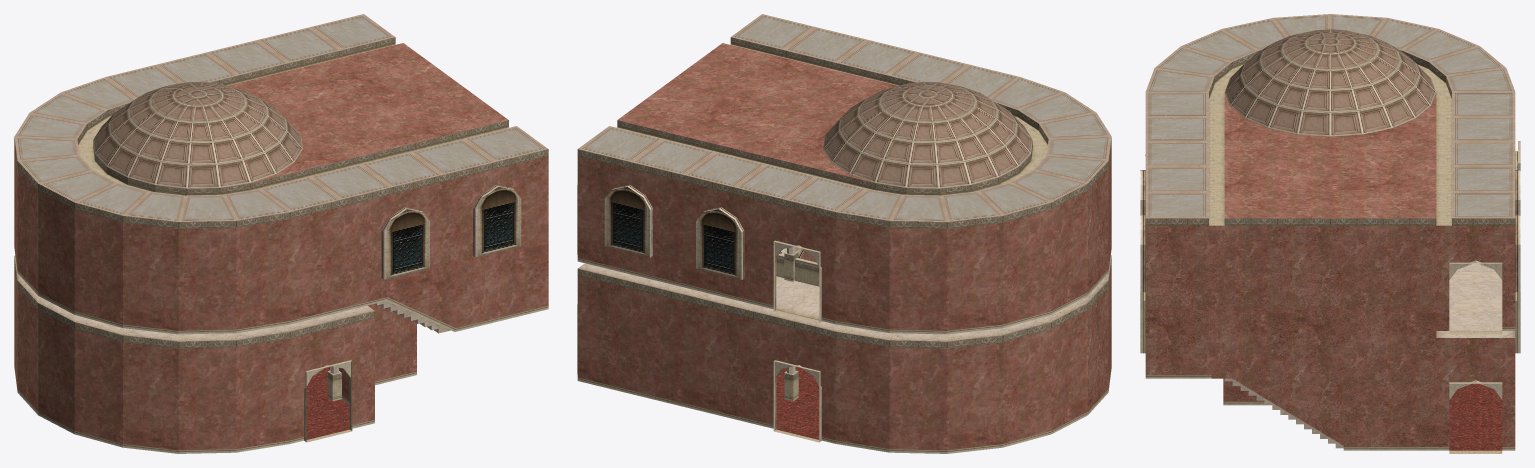
File: ply_nboo_house_m_s01_fp1_r2_mainchamber_mesh_r2.fbx
The picture shows the model from 3 angles, left to right: view 1: azimuth 30°, elevation 25°; view 2: azimuth 150°, elevation 25°; view 3: azimuth 270°, elevation 25°; orthographic projection.
Visible parts, largest first — view 1: mesh_node; view 2: mesh_node; view 3: mesh_node.
Boxes of the visible parts, x1,y1,x2,y2 form: mesh_node: [14, 14, 548, 453]; mesh_node: [577, 14, 1111, 453]; mesh_node: [1140, 14, 1520, 453].
Bounding box in the file's own units: 18.6 × 11.84 × 14.4.
